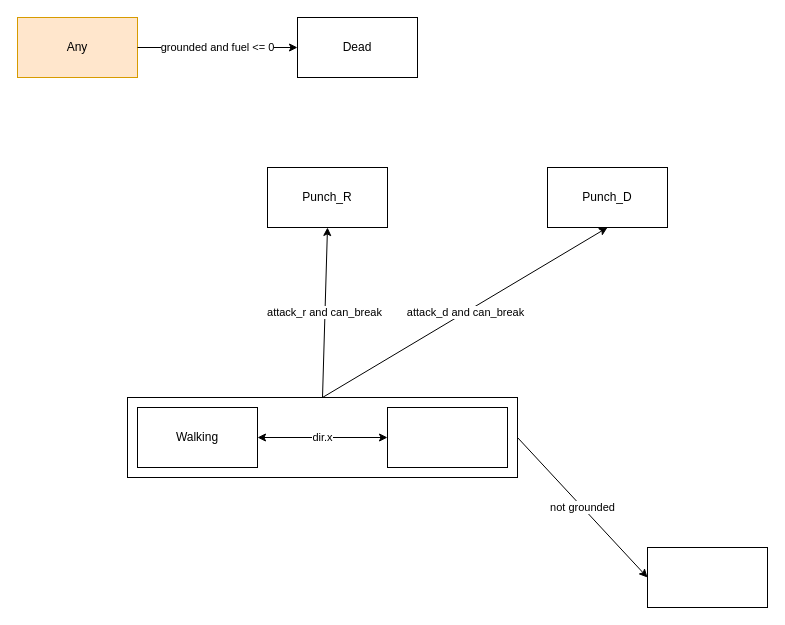
This 785x625 diagram has some shape labels left out. Here are the shapes that lost their labels. From the top down, the centre of each, then its label:
(x=447, y=437): Idle
(x=707, y=577): Falling
